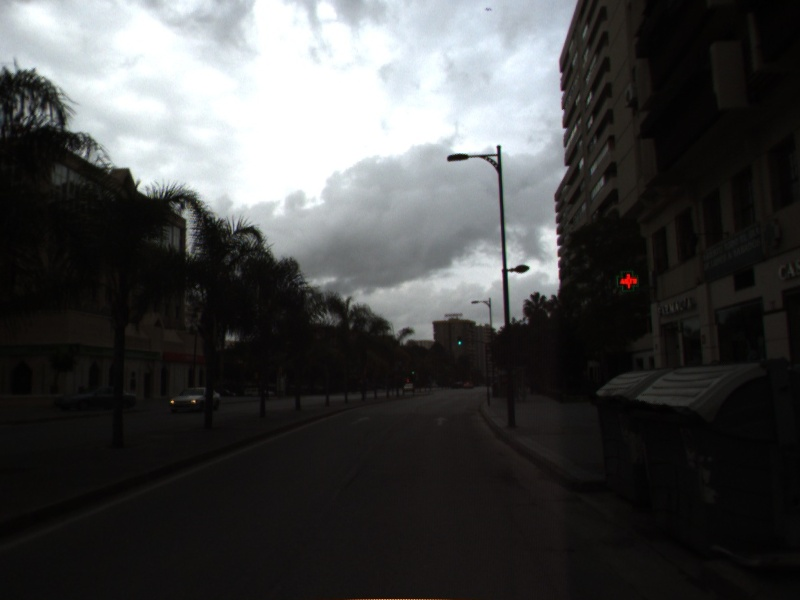STRAIGHT: (348, 415, 373, 427), (431, 415, 451, 428)
